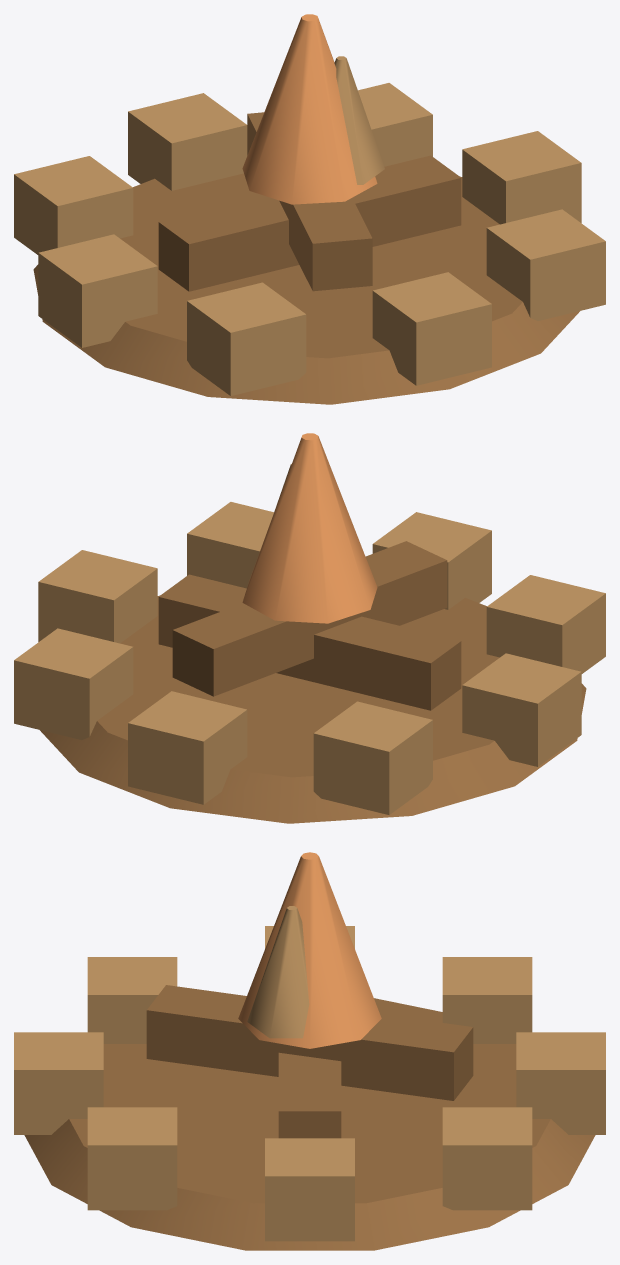
Rendered from campfire_pit.glb.
3 renders of one model, top to bottom at view 1: azimuth 30°, elevation 25°; view 2: azimuth 150°, elevation 25°; view 3: azimuth 270°, elevation 25°, orthographic. The views are drawn at different scales.
Parts seen in each view (by area): view 1: campfire_pit; view 2: campfire_pit; view 3: campfire_pit.
Boxes of the visible parts, box(x1,y1,x2,y2) form: campfire_pit: box(14, 14, 605, 404); campfire_pit: box(14, 433, 605, 823); campfire_pit: box(14, 852, 605, 1250).
Size of the model in its own units: 33 by 17 by 33.
